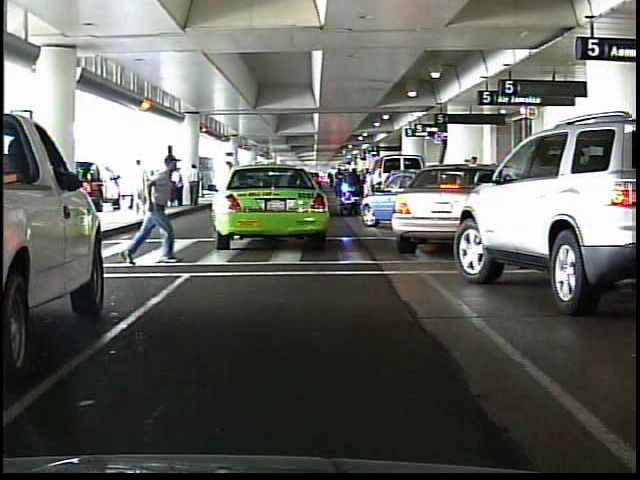person: (131, 152, 183, 271)
